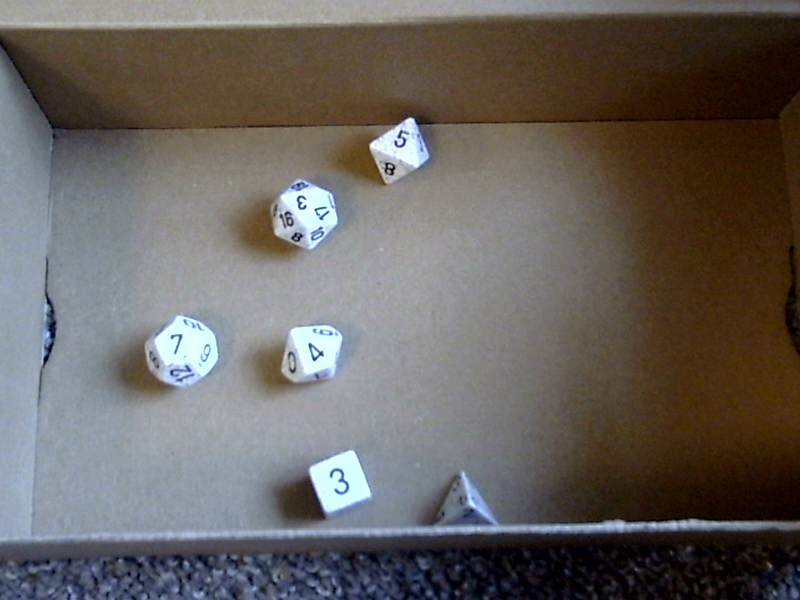d10 4: (271, 319, 346, 392)
d12 7: (127, 307, 229, 397)
d20 3: (258, 174, 342, 253)
d4 2: (428, 466, 501, 530)
d6 3: (298, 446, 377, 521)
d8 5: (364, 113, 432, 189)
